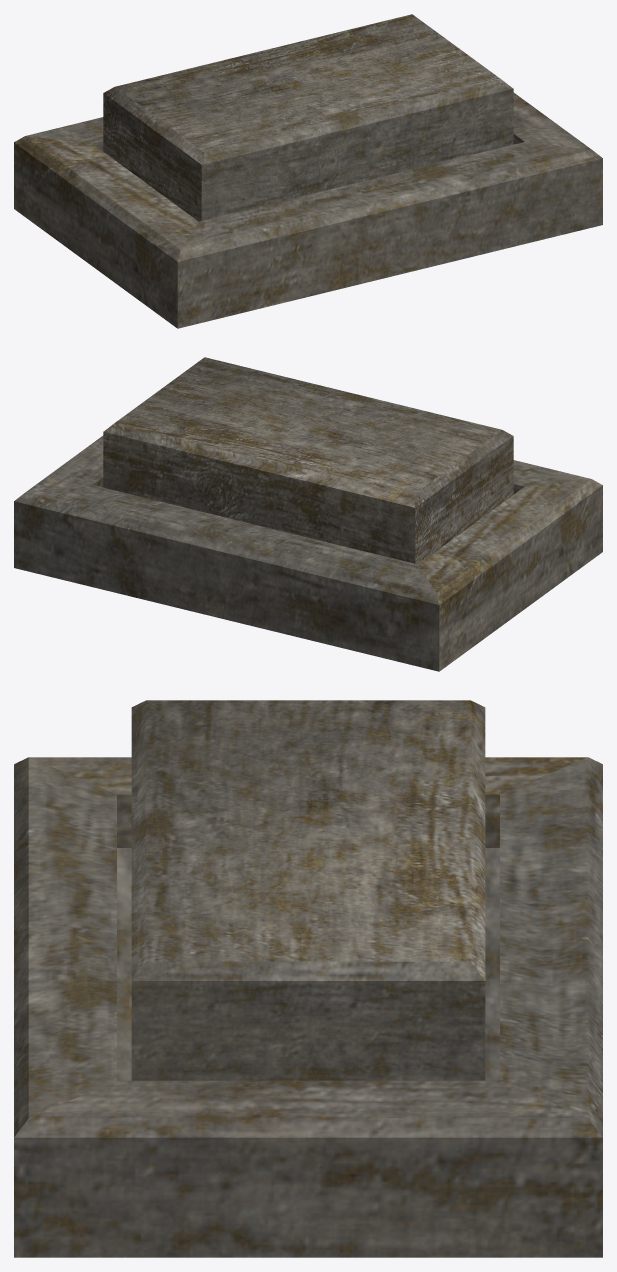
The model's file is button_2.fbx.
The picture shows the model from 3 angles, top to bottom: view 1: azimuth 30°, elevation 25°; view 2: azimuth 150°, elevation 25°; view 3: azimuth 270°, elevation 25°; orthographic projection. The views are drawn at different scales.
Parts seen in each view (by area): view 1: button_2a, button_2b; view 2: button_2a, button_2b; view 3: button_2a, button_2b.
Boxes of the visible parts, x1=… form: button_2a: x1=14, y1=92, x2=602, y2=328; button_2b: x1=103, y1=14, x2=513, y2=221; button_2a: x1=14, y1=435, x2=602, y2=671; button_2b: x1=103, y1=357, x2=513, y2=564; button_2a: x1=14, y1=757, x2=602, y2=1257; button_2b: x1=131, y1=700, x2=485, y2=1080.
Size of the model in its own units: 30 by 9 by 20.
